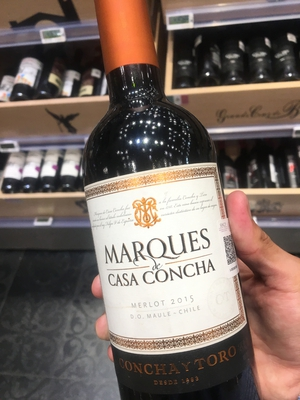marques de casa concha merlot: (69, 9, 257, 373)
